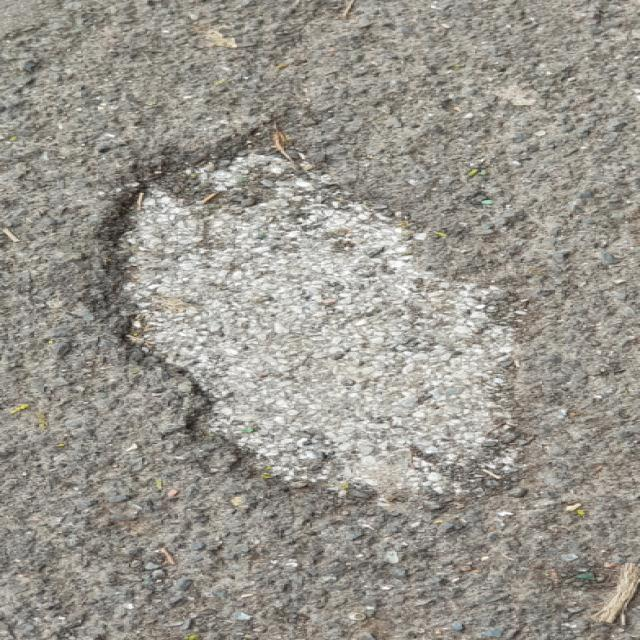pothole: (75, 116, 542, 512)
